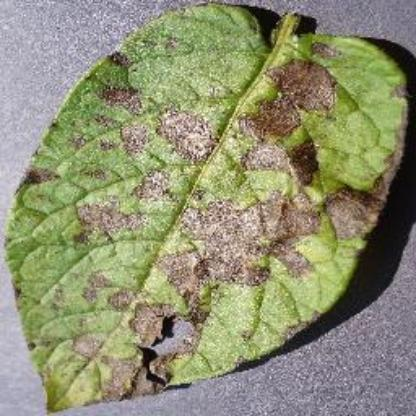Early-Blight: (9, 1, 414, 411)
